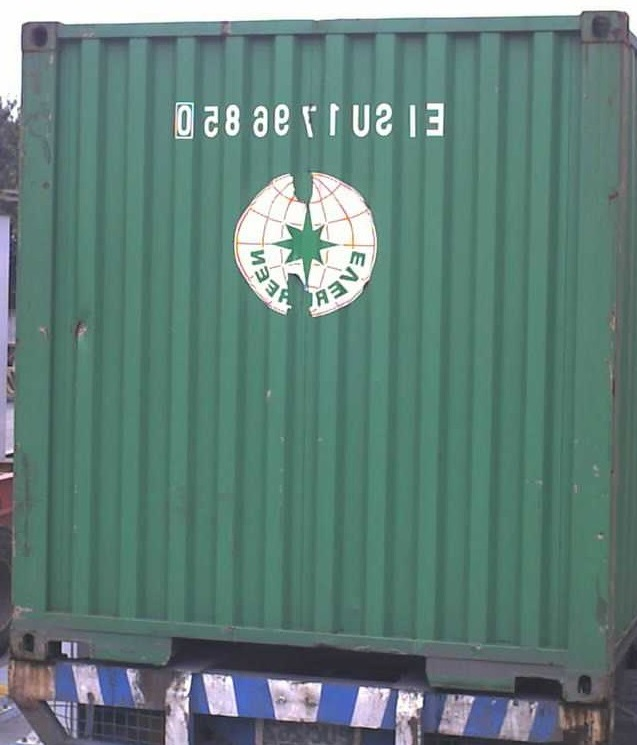container_no_door: (19, 14, 621, 703)
